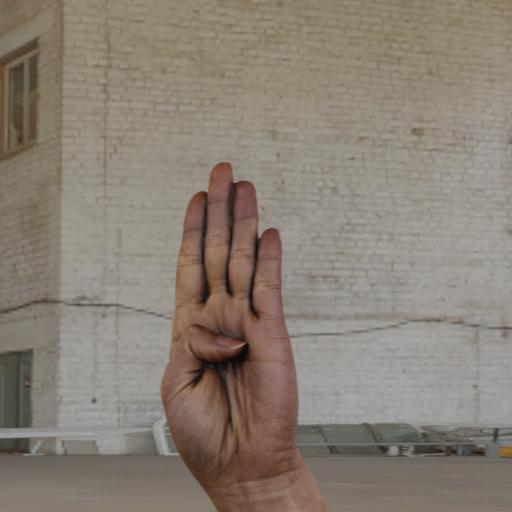B: (150, 153, 318, 487)
